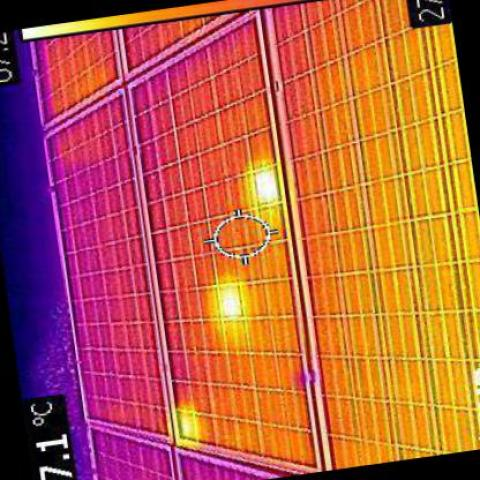fault: (252, 171, 272, 203), (214, 289, 238, 312), (177, 412, 199, 434)
